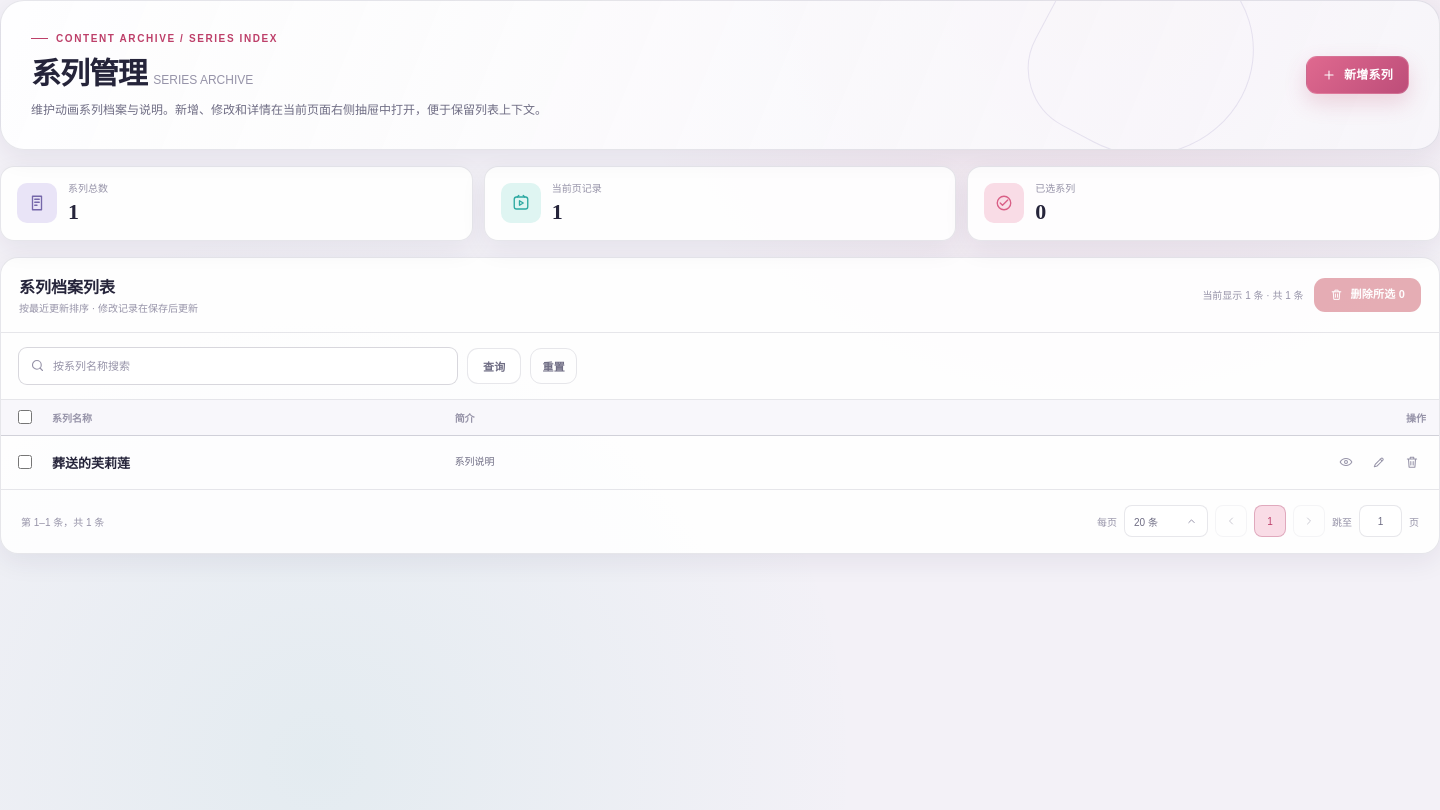
Scenario: 系列管理页面 › 新增系列只保存名称和说明，不提供关联编辑或修改动画
Click the button "新增系列" at (1358, 75), box top-left (1306, 56), bottom-right (1409, 94)
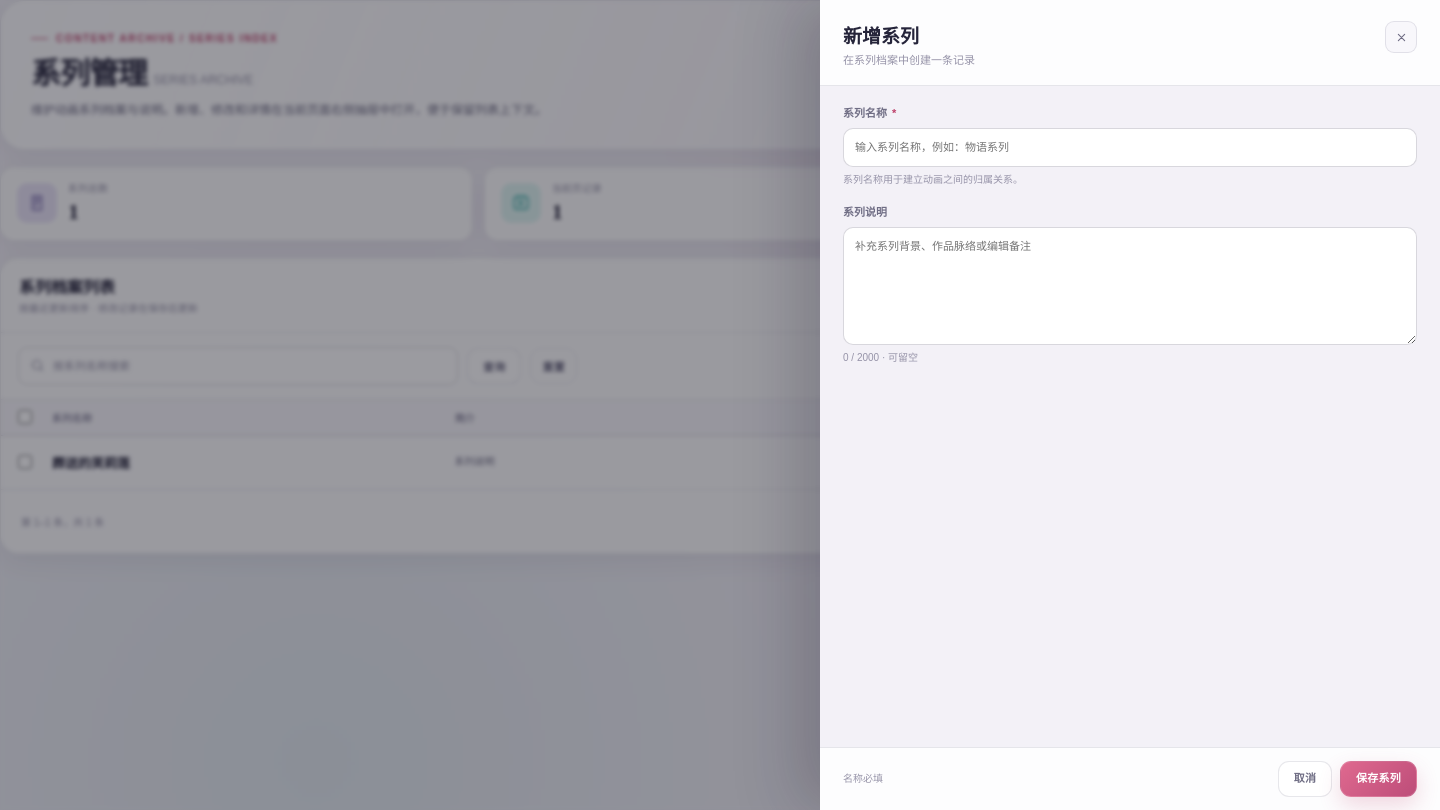
Type "新系列" into the field with id "seriesName" at (1130, 148), box top-left (843, 128), bottom-right (1417, 167)
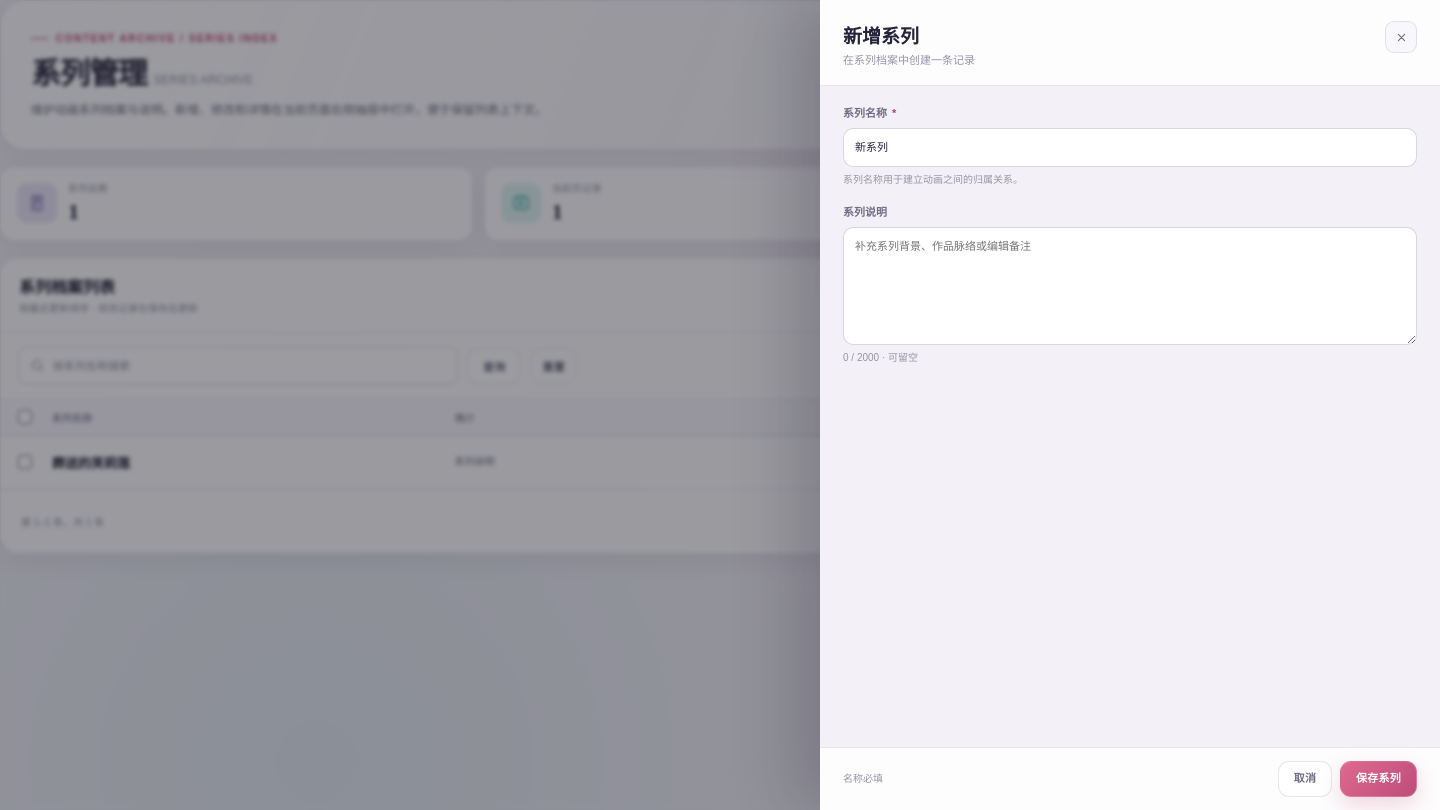
Submit the form with id "seriesEditorForm", box top-left (843, 105), bottom-right (1417, 365)
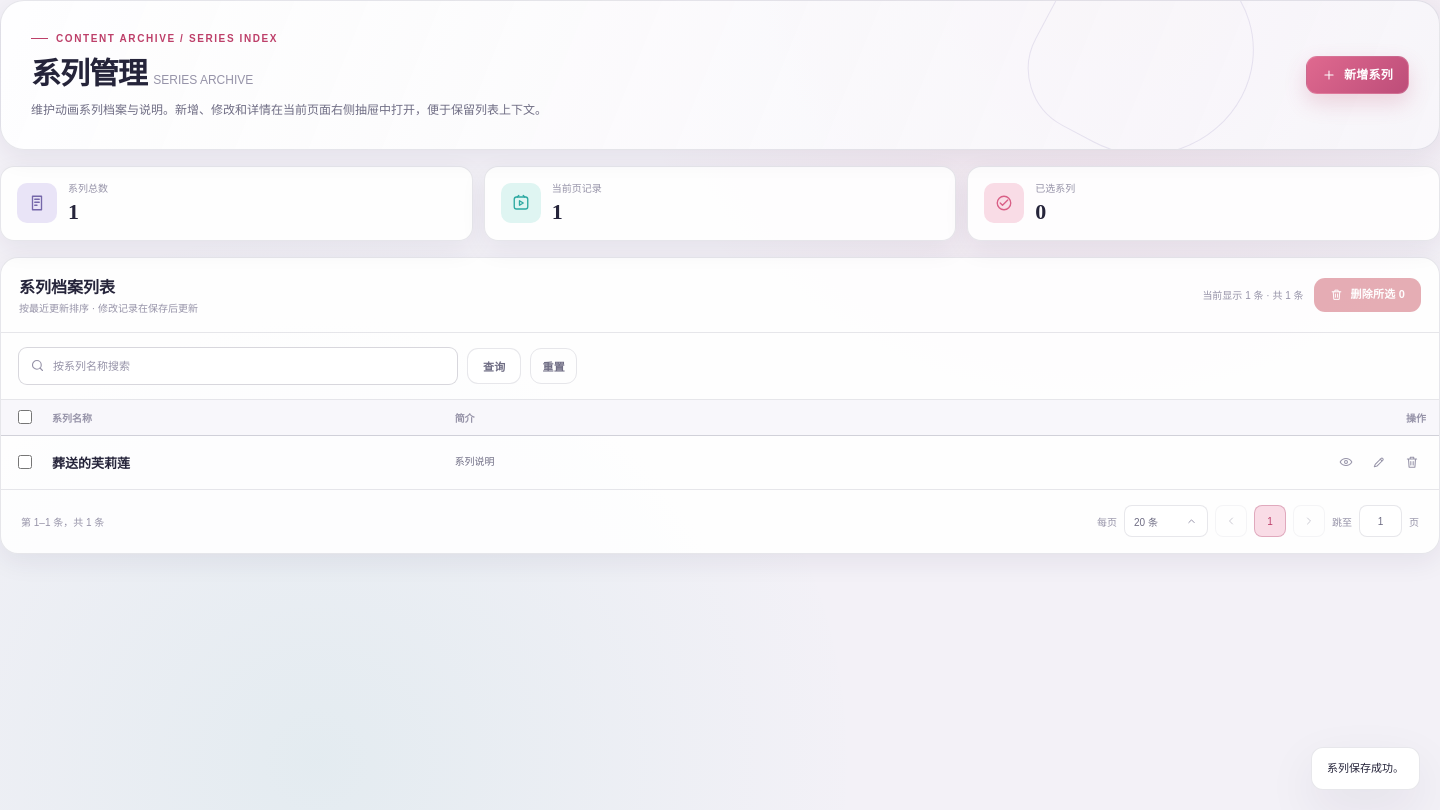
Check: the message with class "series-toast" shows "系列保存成功", box top-left (1327, 762), bottom-right (1404, 774)
